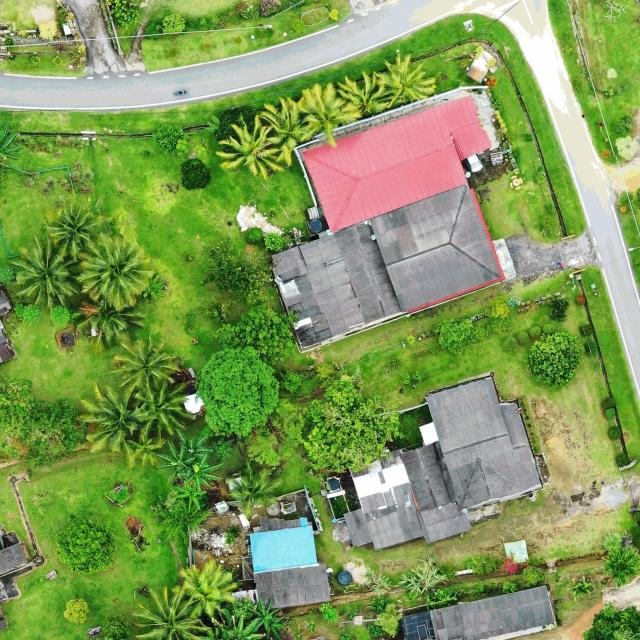Tree: (302, 377, 406, 474), (195, 345, 280, 440), (0, 379, 78, 468), (77, 234, 151, 310), (10, 234, 80, 309), (78, 381, 146, 456), (215, 304, 299, 361), (110, 334, 179, 401), (215, 114, 283, 180), (205, 243, 272, 307), (44, 198, 110, 262), (258, 98, 317, 168), (177, 559, 242, 622), (245, 400, 305, 468), (75, 295, 144, 352), (131, 586, 201, 640), (133, 380, 193, 443), (226, 460, 287, 521), (55, 514, 117, 574), (526, 329, 586, 389), (297, 84, 352, 148), (376, 53, 436, 107), (335, 73, 392, 120), (580, 603, 640, 640), (216, 104, 256, 154), (126, 425, 168, 469), (600, 544, 640, 587), (200, 614, 264, 640), (247, 596, 286, 638), (184, 452, 224, 490), (154, 442, 192, 480), (436, 318, 473, 354), (176, 427, 214, 460), (152, 122, 185, 154), (173, 481, 208, 511), (180, 157, 210, 192), (62, 596, 90, 624), (568, 576, 593, 600), (14, 303, 40, 326), (143, 274, 166, 298), (162, 12, 186, 34), (520, 565, 542, 587), (263, 231, 286, 252), (602, 531, 623, 553), (49, 304, 68, 328), (244, 227, 264, 244), (501, 580, 517, 594)
